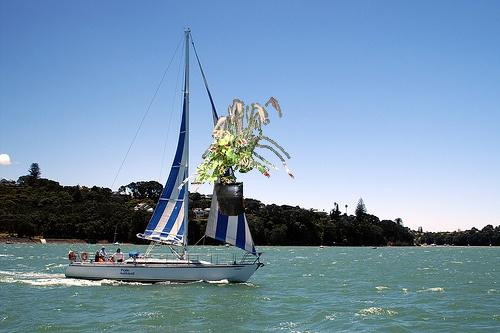tampered: (179, 98, 294, 216)
